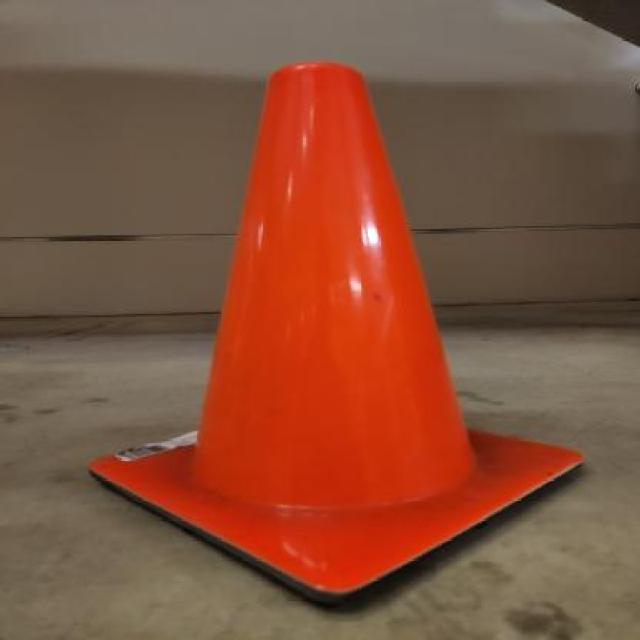traffic cone: (81, 46, 604, 616)
